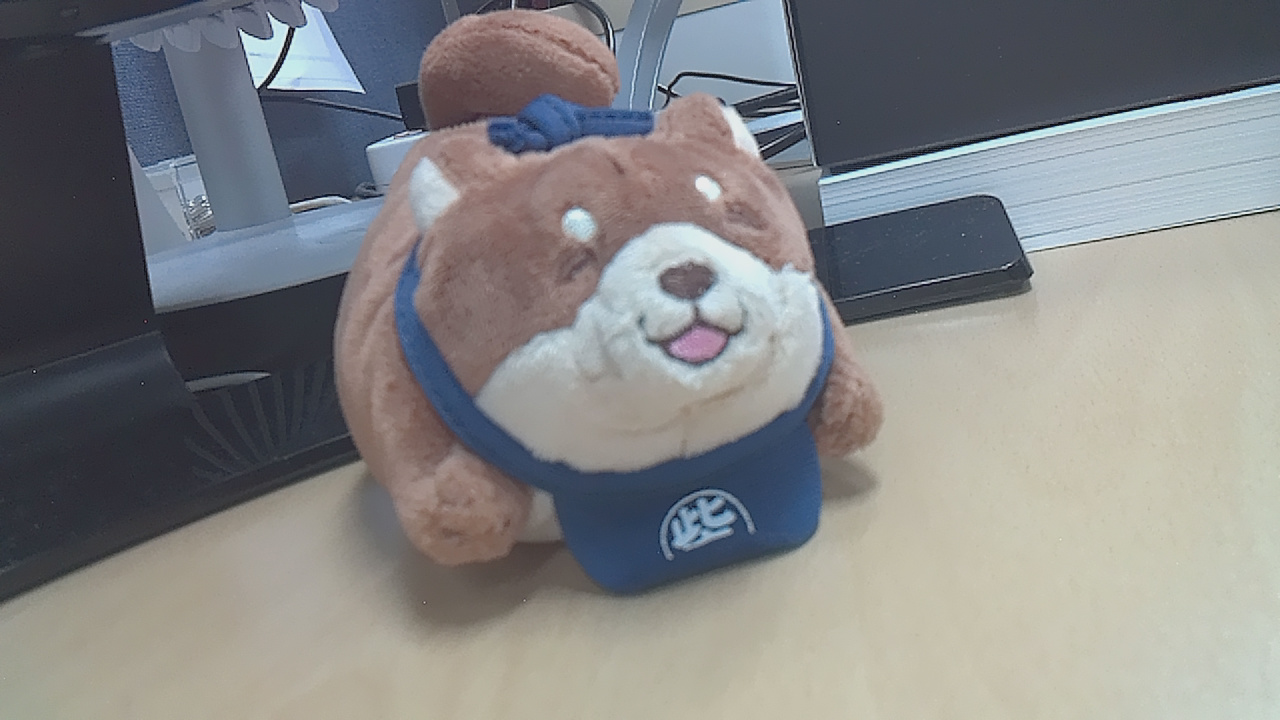cuteDog: (382, 22, 979, 564)
